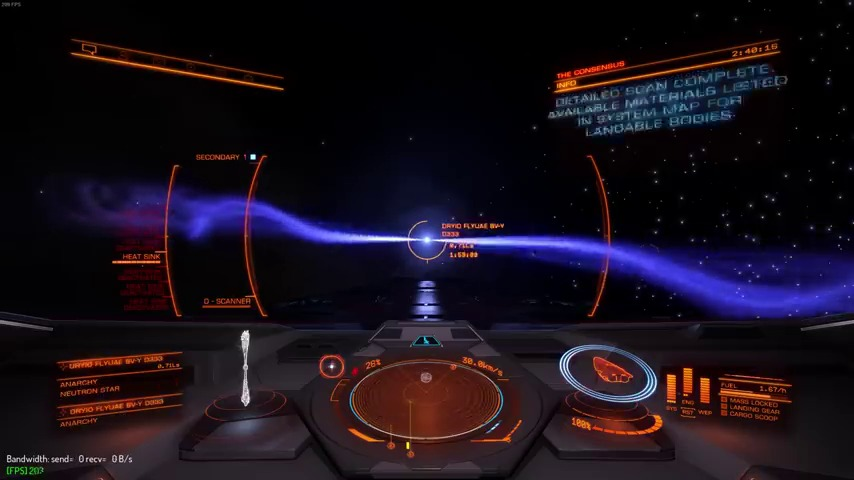jetcone: (457, 223, 851, 323), (108, 186, 399, 259)
